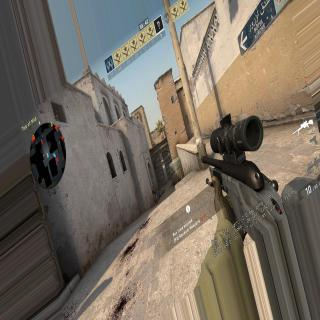T-Body: (152, 186, 160, 204)
T-Head: (152, 186, 154, 190)
